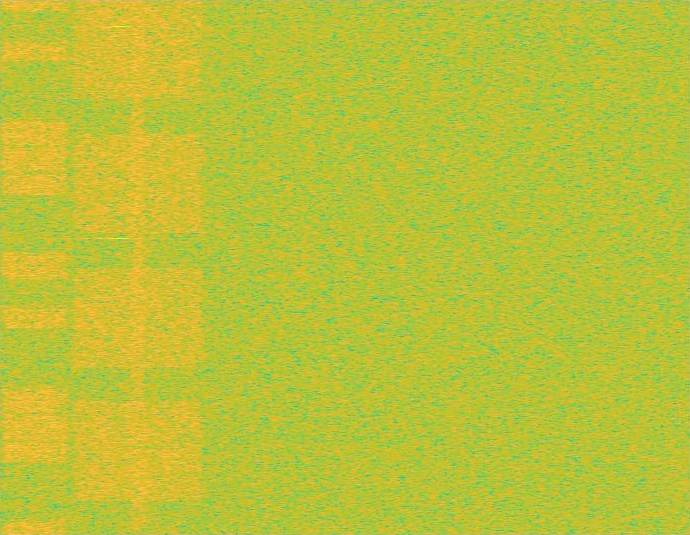5G: (69, 0, 207, 534)
DSSS: (129, 0, 147, 534)
LTE: (0, 0, 69, 534)
Radar: (113, 0, 127, 534)
